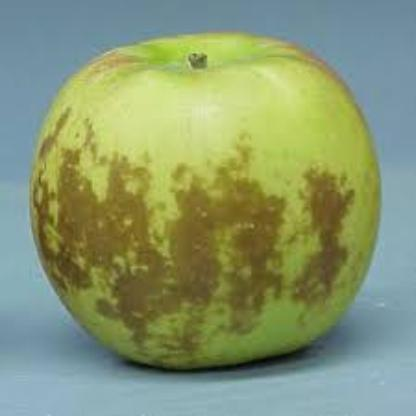defect: (30, 105, 358, 346)
